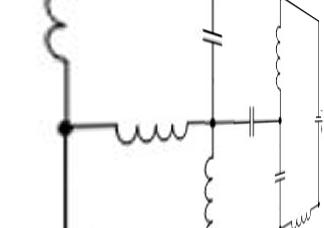inductor: (107, 111, 188, 148), (192, 153, 221, 226), (267, 19, 287, 93), (283, 203, 313, 226)
